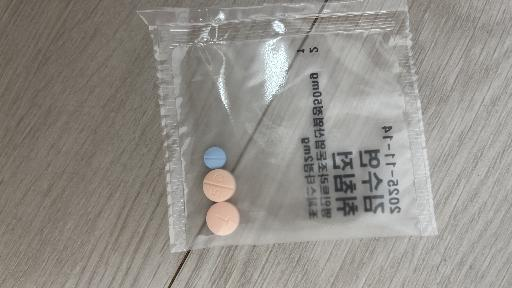Trazodone HCl: (206, 202, 240, 235), (203, 169, 236, 202)
Zopista: (204, 147, 226, 169)
vinyl: (140, 0, 437, 252)
